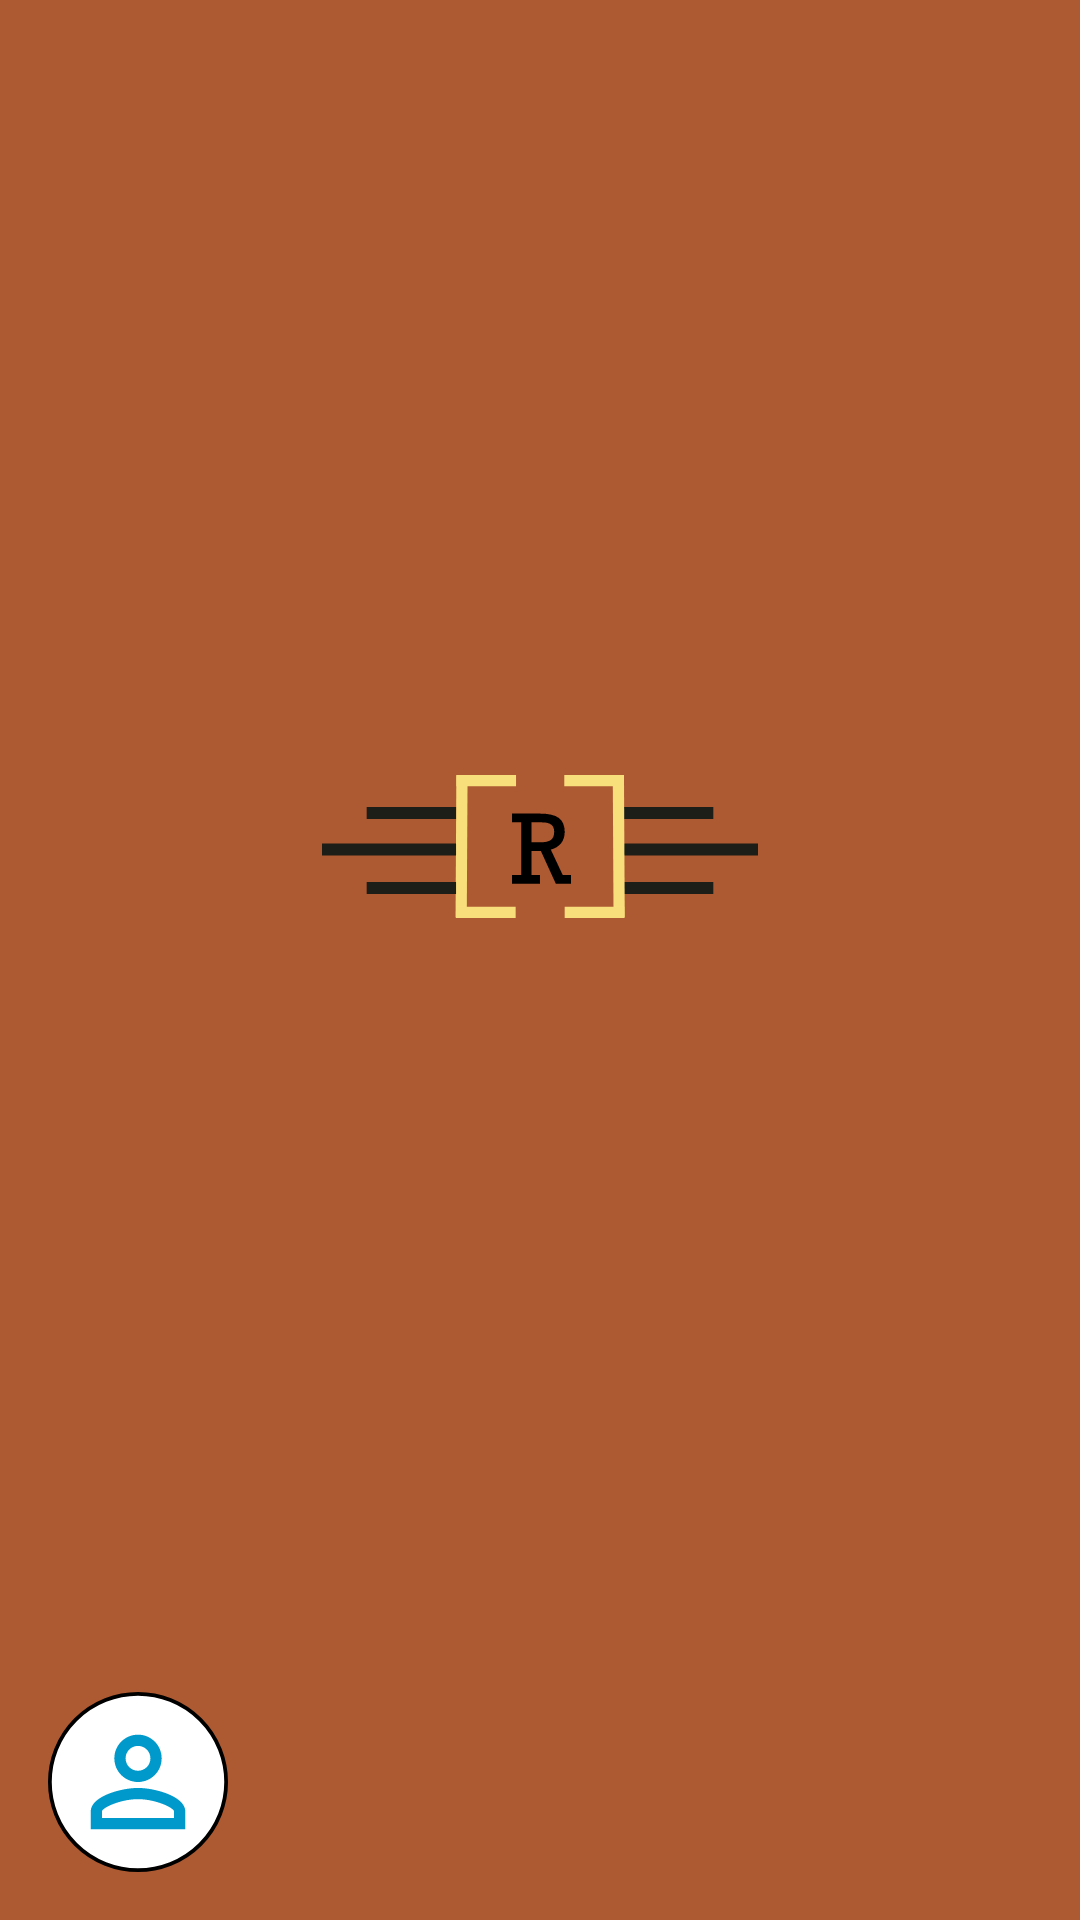

Icons on this 1080 x 1920 Android screen, each with its box as (x1, y1, x2, y2):
Profile picture: (48, 1692, 228, 1872)
